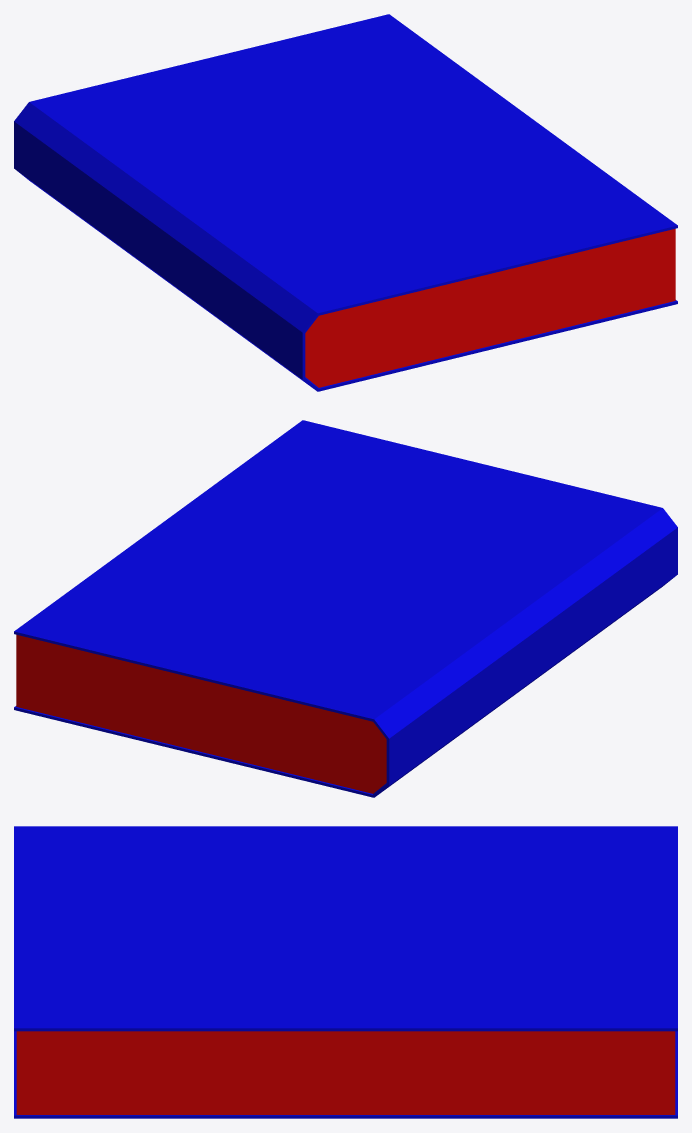
The model's file is Diary.fbx.
3 renders of one model, top to bottom at view 1: azimuth 30°, elevation 25°; view 2: azimuth 150°, elevation 25°; view 3: azimuth 270°, elevation 25°, orthographic. The views are drawn at different scales.
Parts seen in each view (by area): view 1: pCube1; view 2: pCube1; view 3: pCube1.
Boxes of the visible parts, bbox=[...] form: pCube1: bbox=[14, 14, 677, 391]; pCube1: bbox=[14, 420, 677, 797]; pCube1: bbox=[14, 826, 677, 1118].
Bounding box in the file's own units: 15 × 3 × 20.
